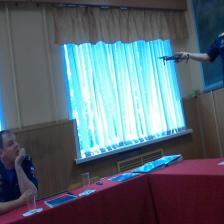drone: (156, 47, 197, 67)
